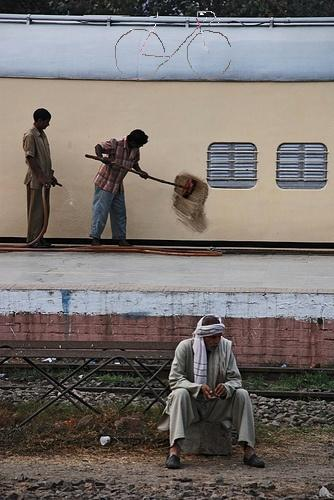tampered: (116, 12, 231, 79)
